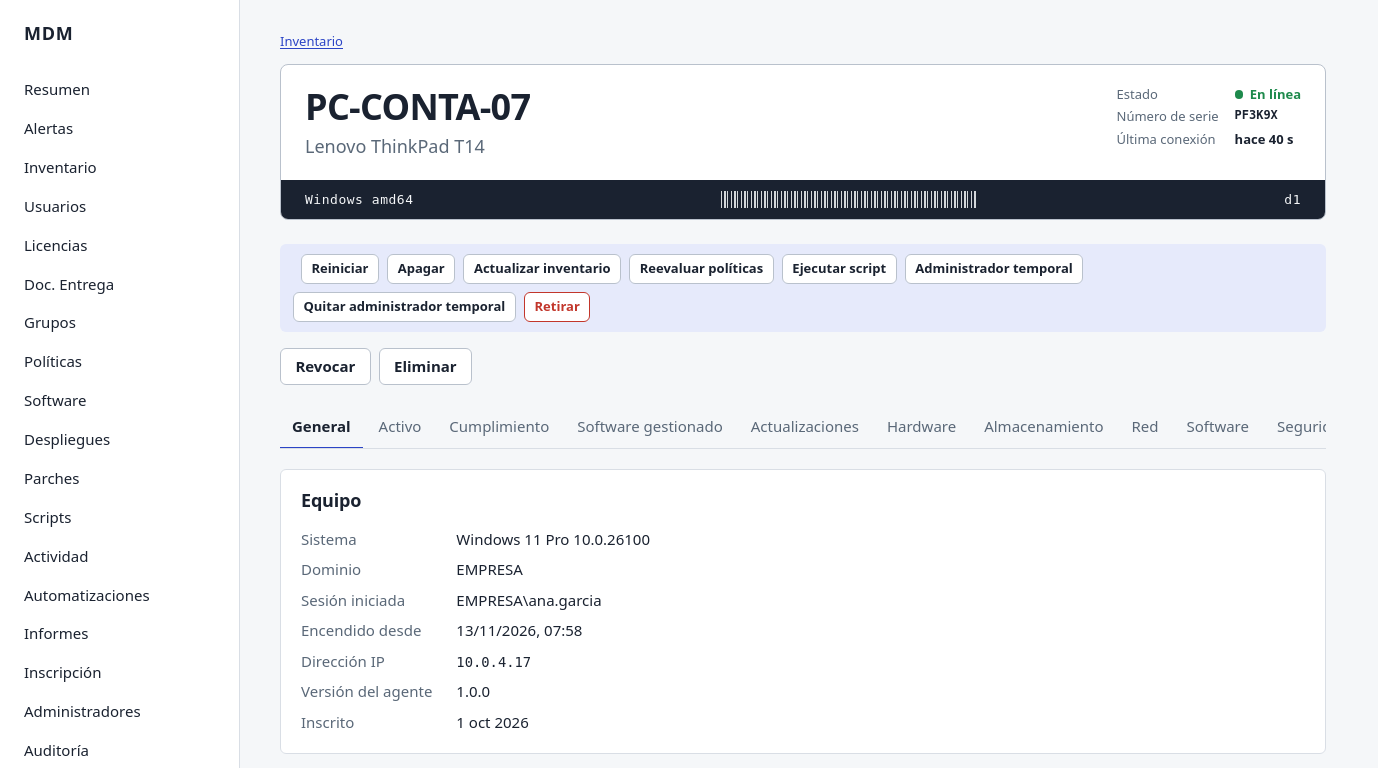
Scenario: Despliegues › la ficha muestra los despliegues que le aplican con su estado
Click the tab "Software gestionado". click: coordinates (650, 427)
box: x1=565 y1=405 x2=735 y2=449
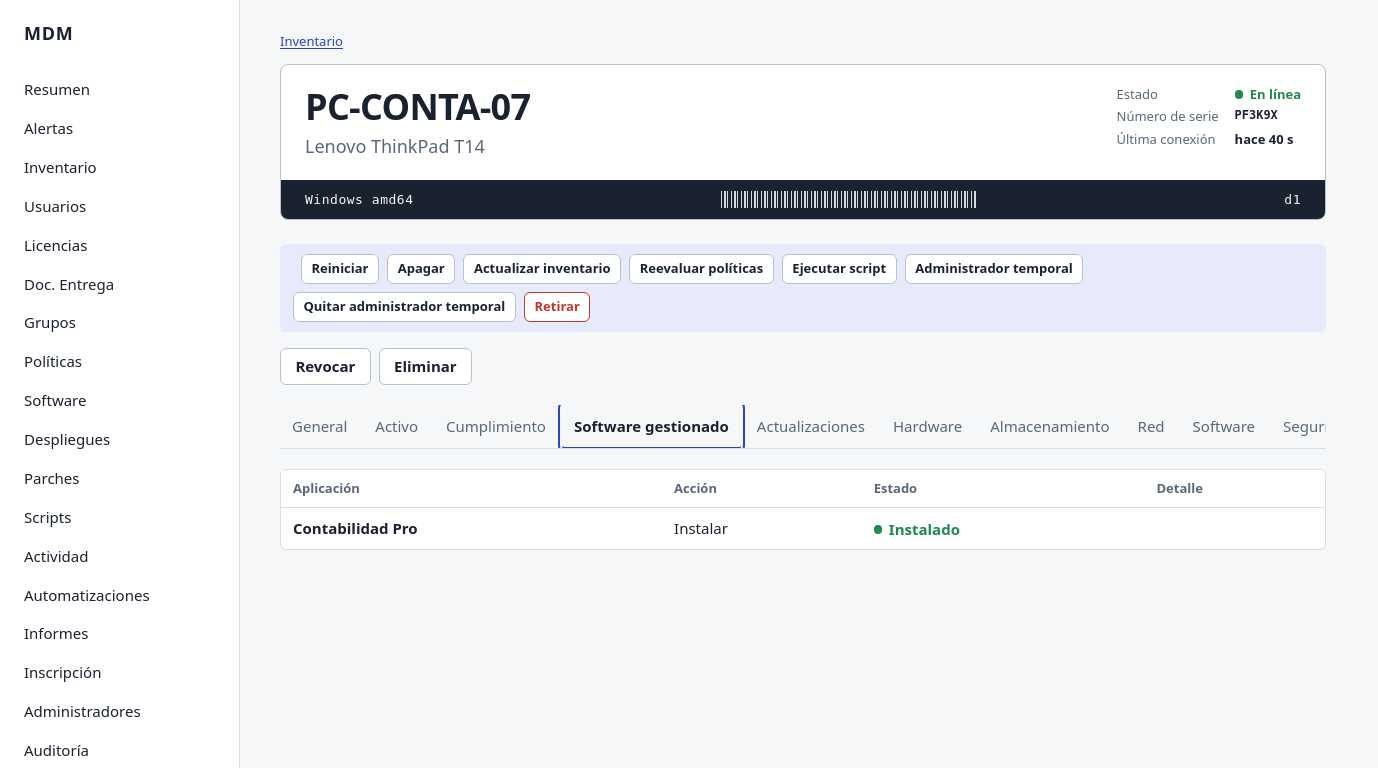
Expected: the text "Instalado" is shown, x1=874 y1=518 x2=960 y2=541
